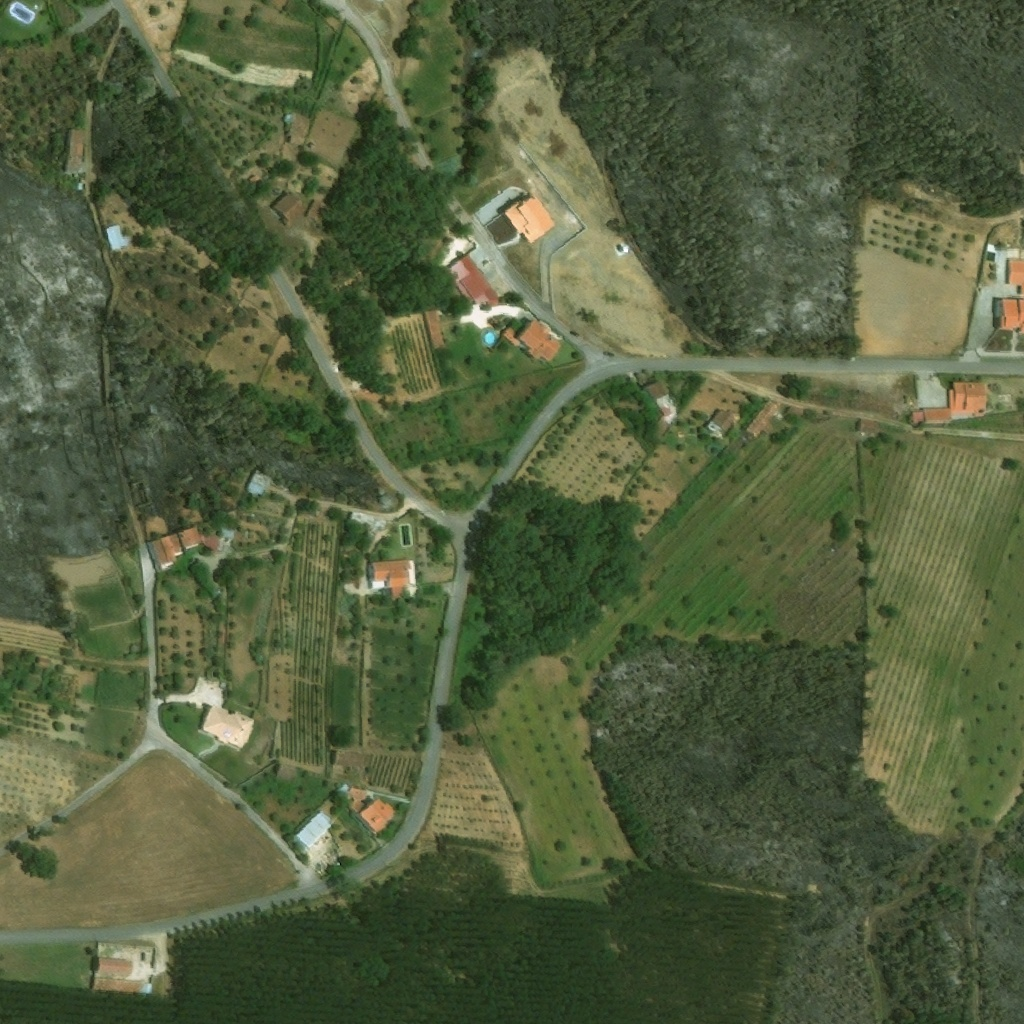0 no-damage: (445, 254, 499, 310), (500, 194, 556, 244), (499, 318, 562, 362), (200, 705, 255, 748), (367, 559, 415, 599), (295, 810, 334, 849), (355, 796, 394, 834), (178, 524, 235, 549), (643, 380, 678, 420), (744, 400, 779, 437), (269, 191, 304, 226), (951, 382, 986, 415), (992, 298, 1023, 334), (64, 129, 85, 173), (89, 978, 142, 995), (423, 309, 444, 351), (91, 956, 133, 977), (705, 409, 736, 437), (160, 531, 184, 567), (146, 536, 169, 573), (341, 784, 366, 812), (247, 469, 270, 493), (911, 408, 949, 422), (106, 224, 125, 250), (286, 126, 306, 148), (349, 512, 374, 525), (306, 200, 322, 219), (857, 418, 877, 432), (377, 487, 392, 505), (34, 658, 49, 670), (249, 175, 259, 183)
4 un-classified: (1006, 259, 1023, 295), (389, 543, 397, 551)
